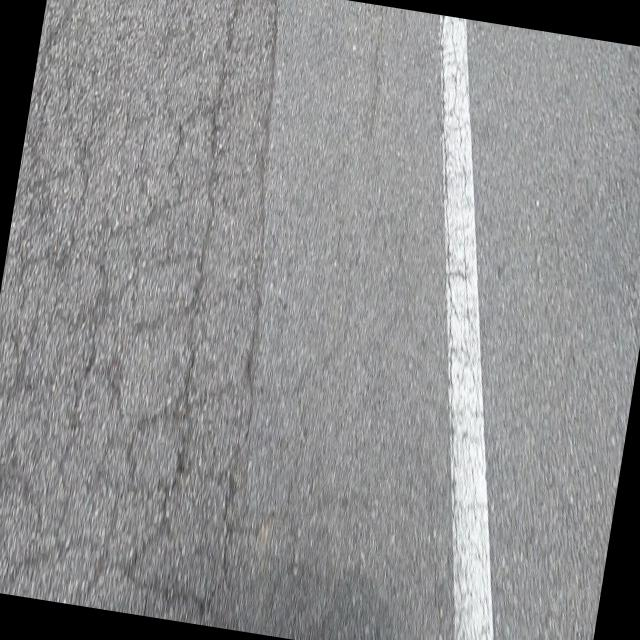Retak-Buaya: (0, 0, 276, 626)
